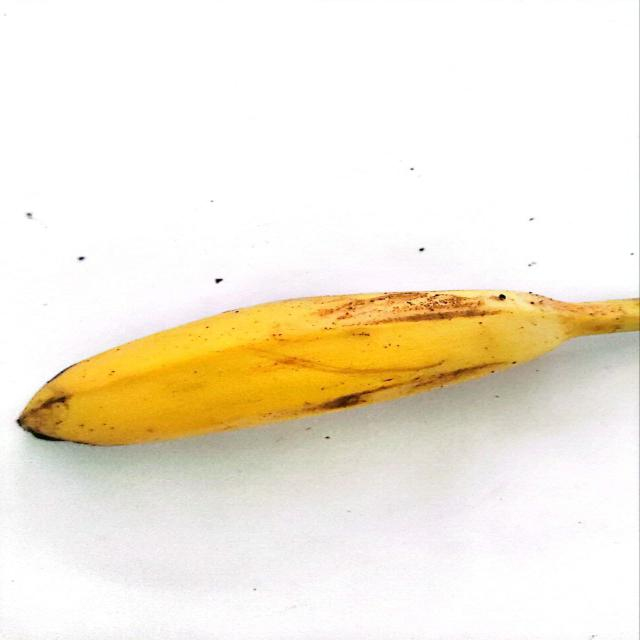fresh_banana: (13, 289, 636, 446)
